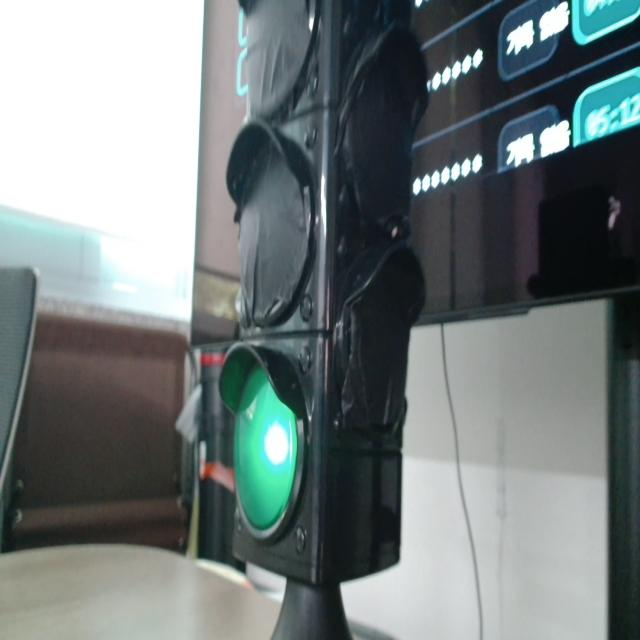green_light: (235, 367, 297, 531)
